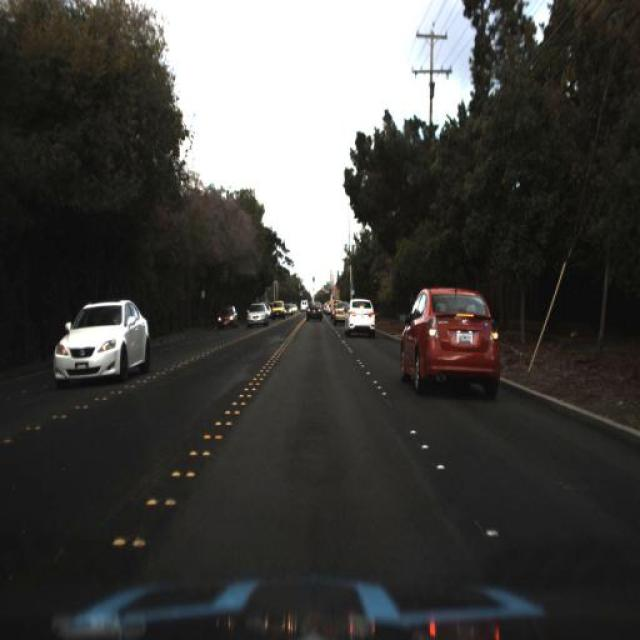car: (398, 282, 503, 396), (51, 298, 150, 388), (343, 292, 382, 338), (211, 304, 241, 338), (243, 299, 271, 329), (329, 300, 353, 330), (303, 294, 323, 324)
